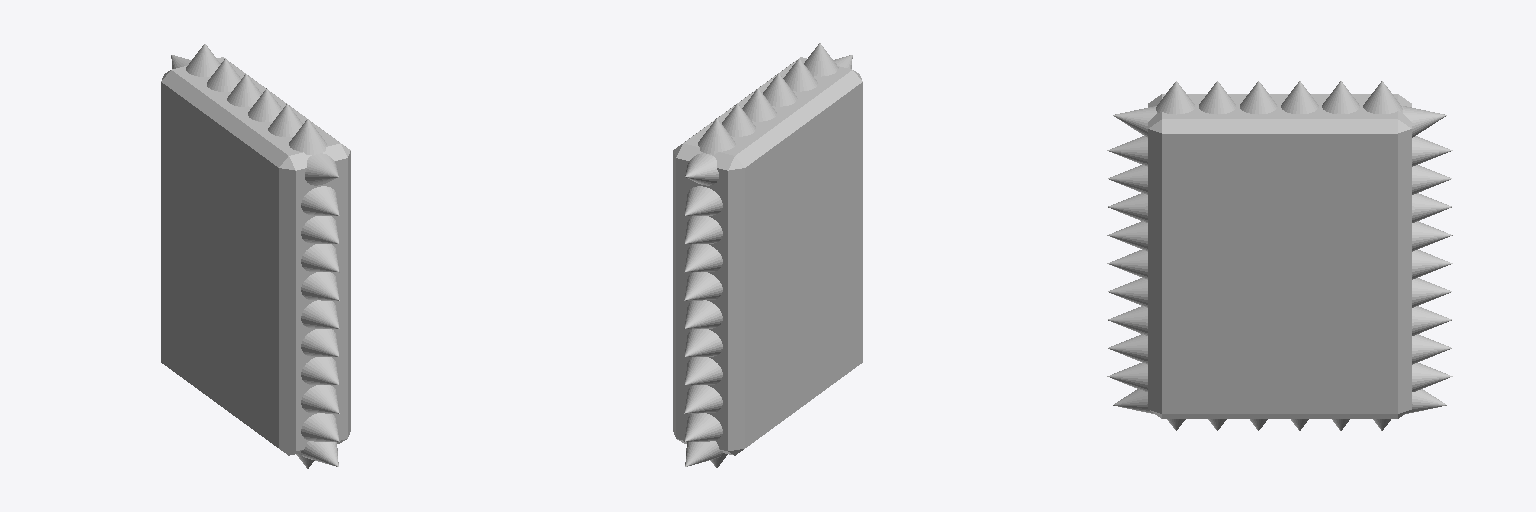
Rendered from whomp.obj.
3 renders of one model, left to right at view 1: azimuth 30°, elevation 25°; view 2: azimuth 150°, elevation 25°; view 3: azimuth 270°, elevation 25°, orthographic.
Visible parts, largest first — view 1: Cube, Cone.005; view 2: Cube, Cone.005; view 3: Cube, Cone.005.
Part boxes in pixels (x1,y1,x2,y2): Cube: (161, 57, 350, 455); Cone.005: (171, 44, 339, 468); Cube: (673, 57, 862, 455); Cone.005: (684, 43, 852, 467); Cube: (1148, 94, 1411, 418); Cone.005: (1107, 81, 1452, 430).
Bounding box in the file's own units: 0.951 × 4.43 × 3.96.